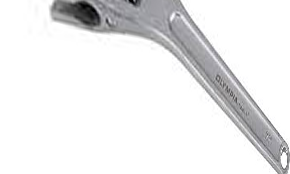wrench: (50, 2, 290, 174)
